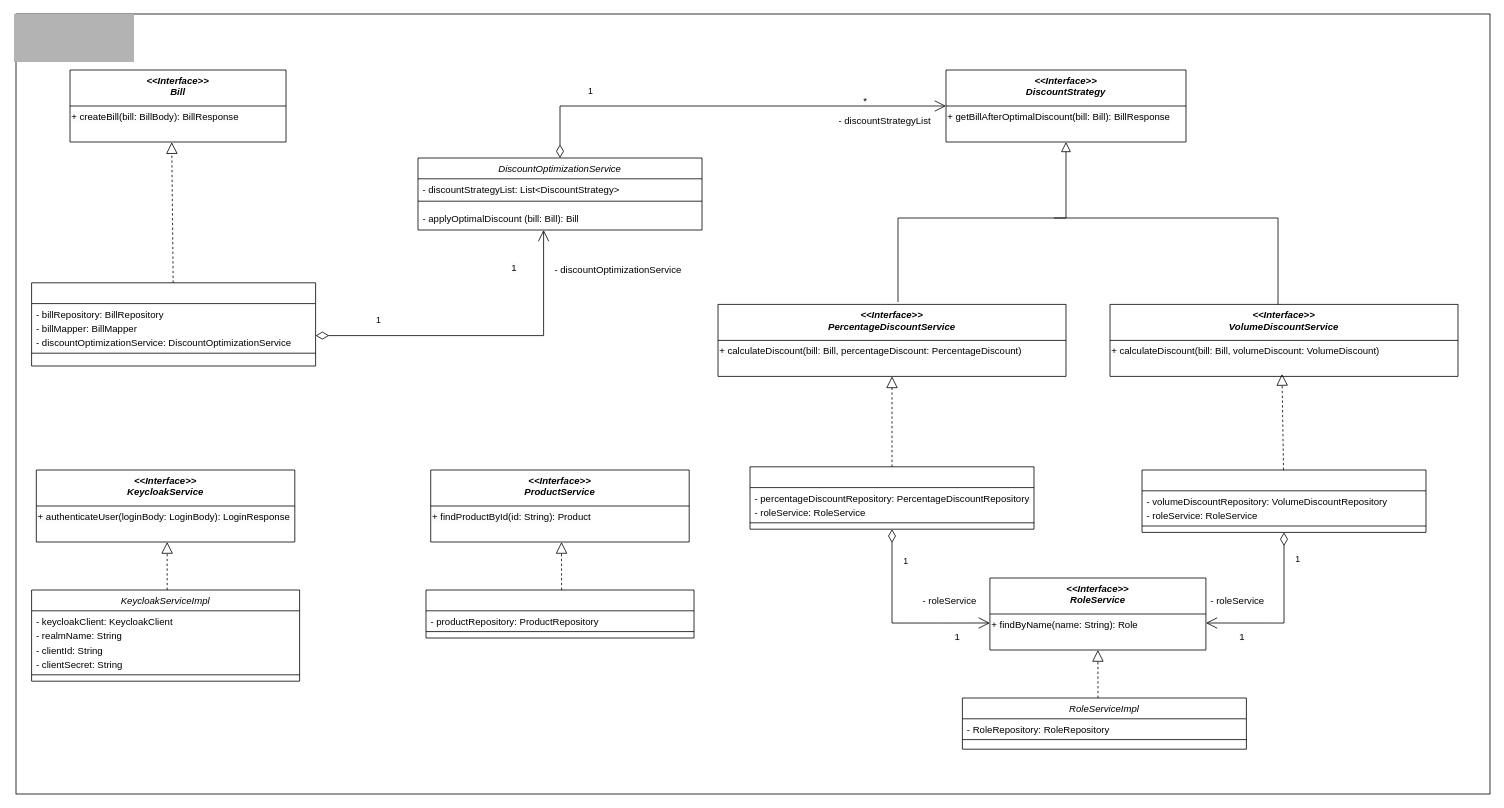
Image size: 1504x808. Some labels were removed from this diagram. Here are the shapes that lost their labels. From the top down, the box of each, then its label:
(14, 14, 134, 62): Service
(31, 282, 316, 366): BillServiceImpl
(749, 466, 1034, 529): PercentageDiscountServiceImpl
(1141, 469, 1426, 532): VolumeDiscountServiceImpl
(425, 589, 694, 638): ProductServiceImpl
